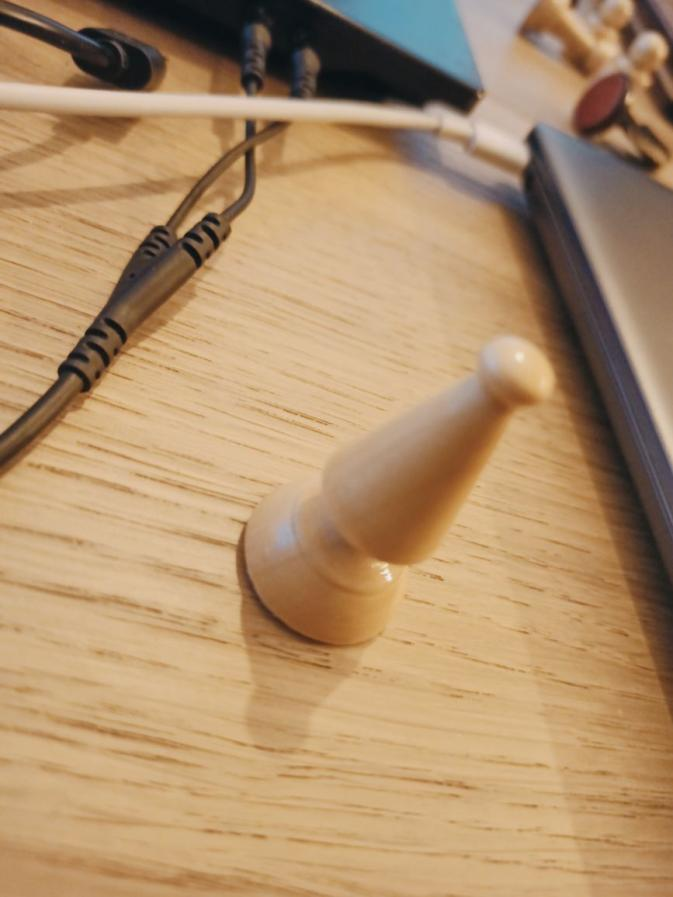wbishop: (238, 331, 553, 654)
